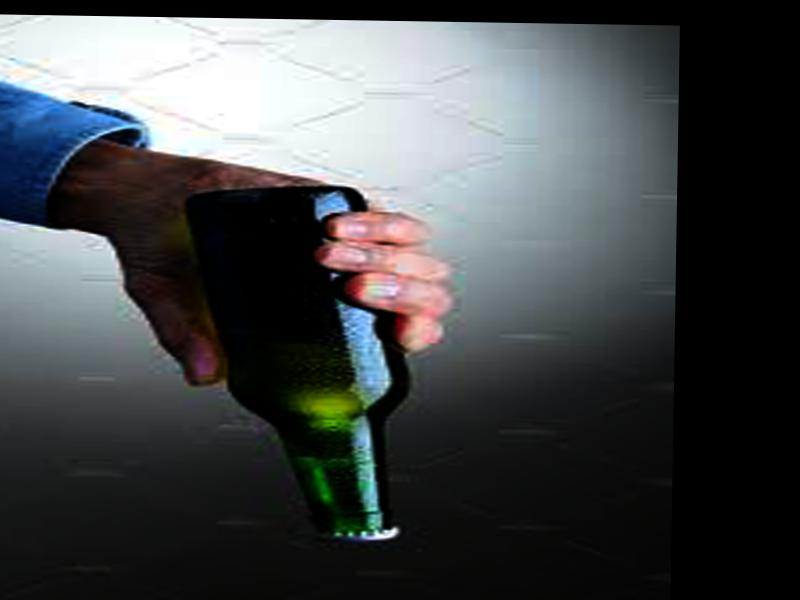Beer: (176, 182, 410, 546)
